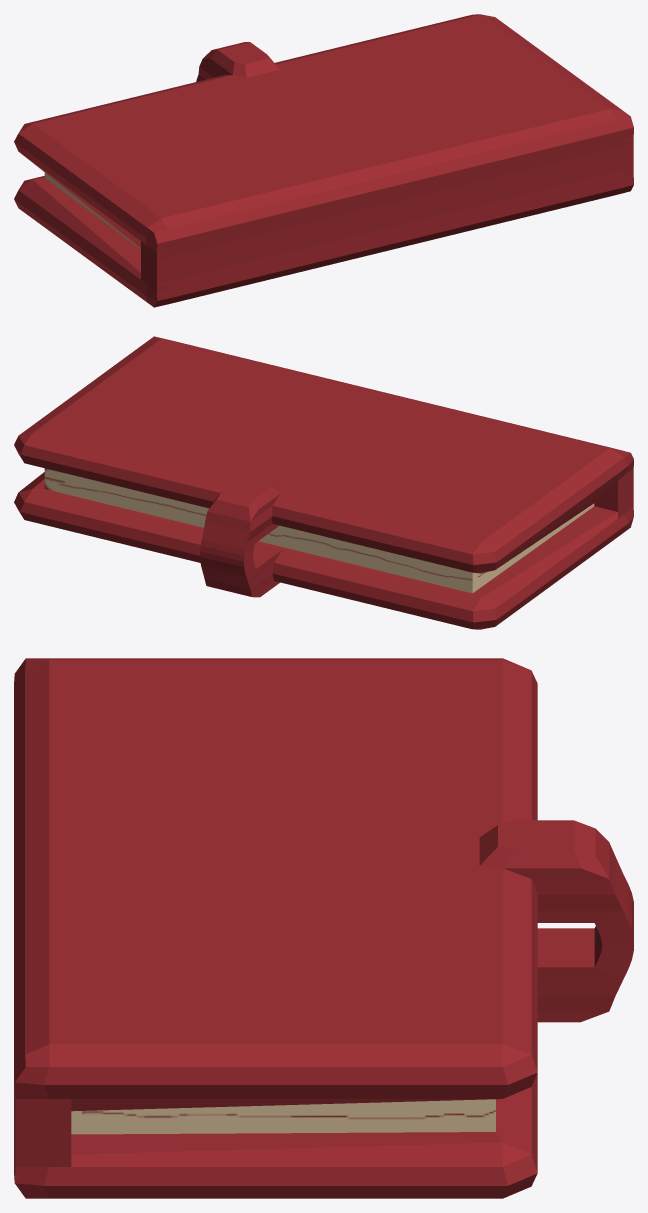
The model's file is libro.fbx.
3 views of the same model, one above another, from view 1: azimuth 30°, elevation 25°; view 2: azimuth 150°, elevation 25°; view 3: azimuth 270°, elevation 25° (orthographic). The views are drawn at different scales.
Parts seen in each view (by area): view 1: diario; view 2: diario; view 3: diario.
Part boxes in pixels (left/top/right/bottom): diario: left=14, top=14, right=633, bottom=307; diario: left=14, top=336, right=633, bottom=629; diario: left=14, top=658, right=633, bottom=1198.
Bounding box in the file's own units: 39.55 × 7.52 × 25.04.
1 material, 1 textured.
